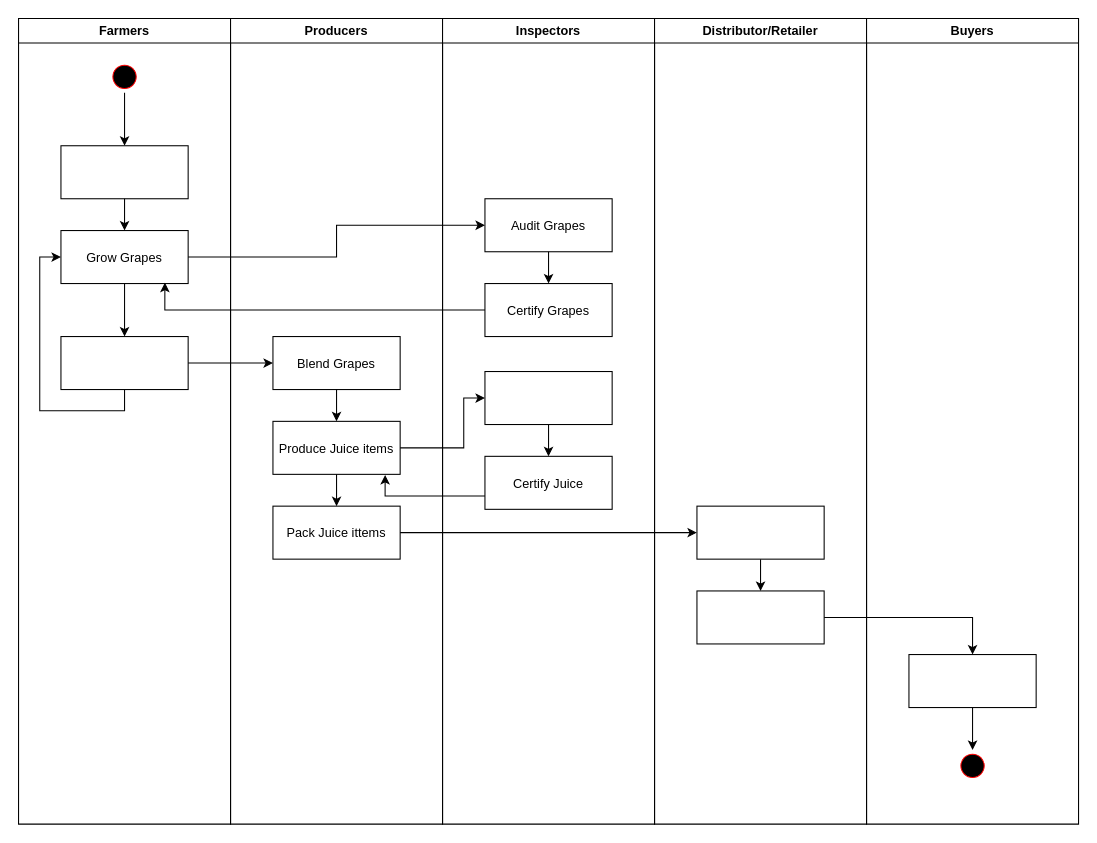
Image size: 1097x843. Some labels were removed from this diagram. The centre of each missing label's shape, as x and y in pixels:
"Audit Juice" goes at (x=548, y=397).
"Buy and receive Juice Pack" goes at (x=760, y=532).
"buy Juice item" goes at (x=972, y=680).
"Harvest Grapes" goes at (x=124, y=362).
"Plant Grapes" goes at (x=124, y=172).
"unpack Juice items" goes at (x=760, y=617).
